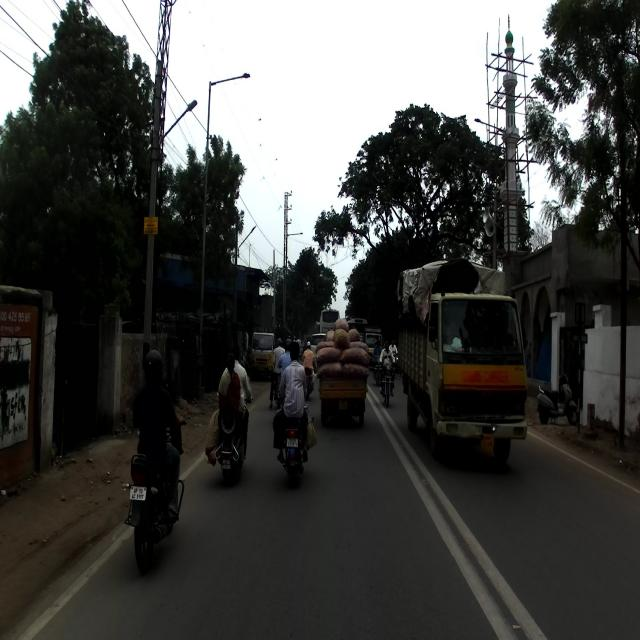autorickshaw: (315, 316, 369, 432)
motorcycle: (122, 419, 187, 574)
motorcycle_TVS: (275, 390, 317, 486)
scooter: (214, 390, 252, 486)
truck: (396, 257, 528, 467)
